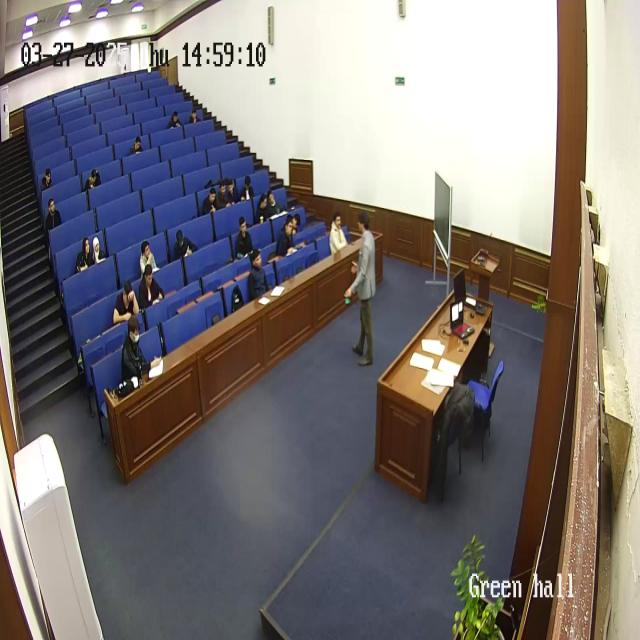person: (345, 213, 377, 367), (120, 319, 154, 389), (247, 247, 275, 301), (112, 278, 140, 326), (138, 264, 165, 309), (273, 216, 299, 259), (233, 215, 254, 261), (172, 228, 198, 262), (329, 212, 349, 255), (74, 235, 96, 273), (139, 240, 158, 280), (288, 213, 306, 248), (45, 198, 62, 235), (256, 191, 274, 224), (203, 183, 221, 214), (218, 180, 234, 210), (265, 189, 281, 219), (89, 235, 105, 264), (240, 174, 254, 204), (86, 168, 101, 191), (130, 135, 144, 155), (41, 168, 53, 191), (167, 111, 181, 129), (187, 108, 201, 125)
